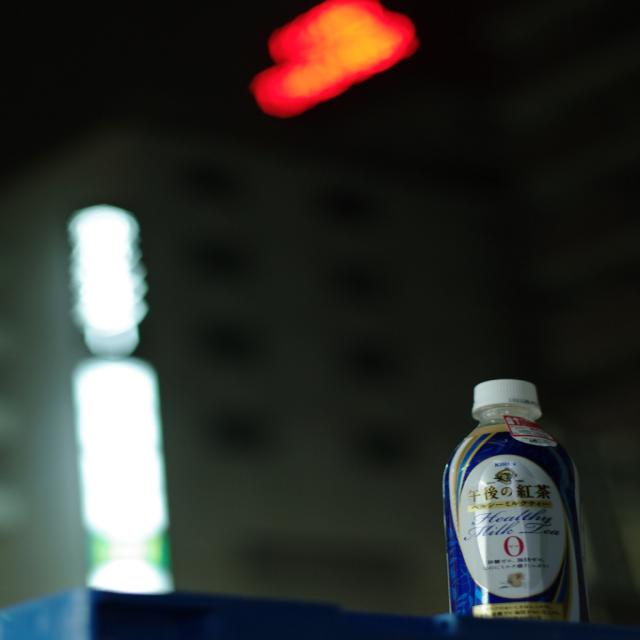Bottle: (428, 376, 594, 630)
